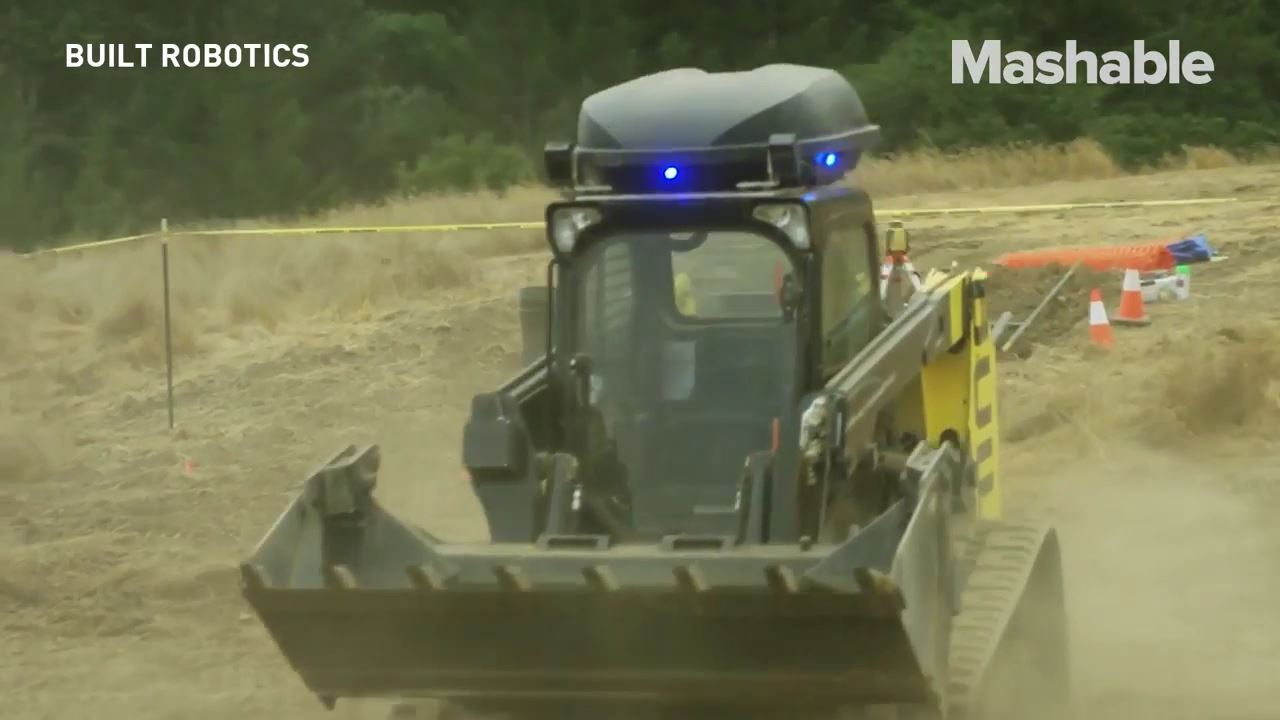con_eq: (207, 46, 1076, 711)
